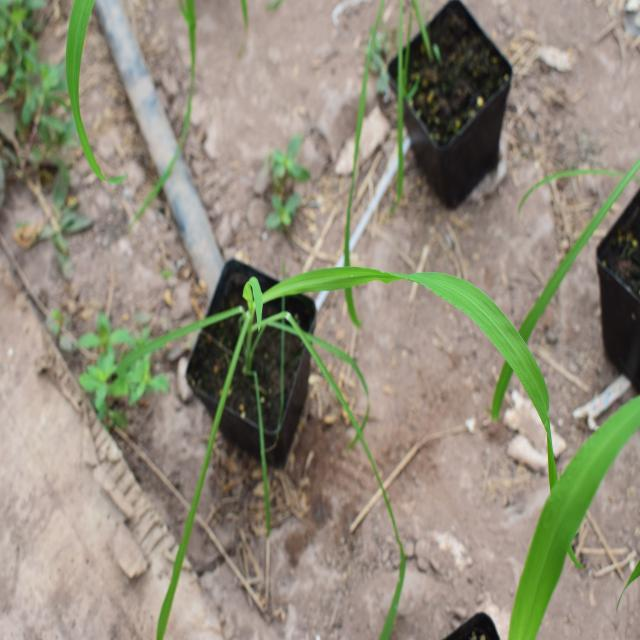barnyard_grass: (119, 184, 542, 583)
